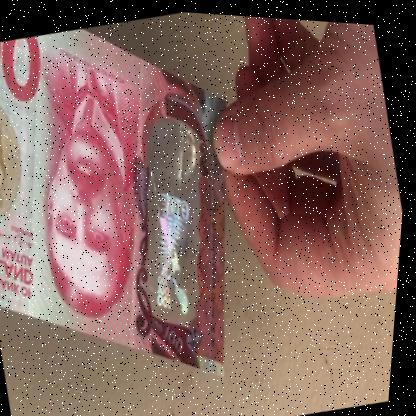100F: (123, 129, 240, 324)
